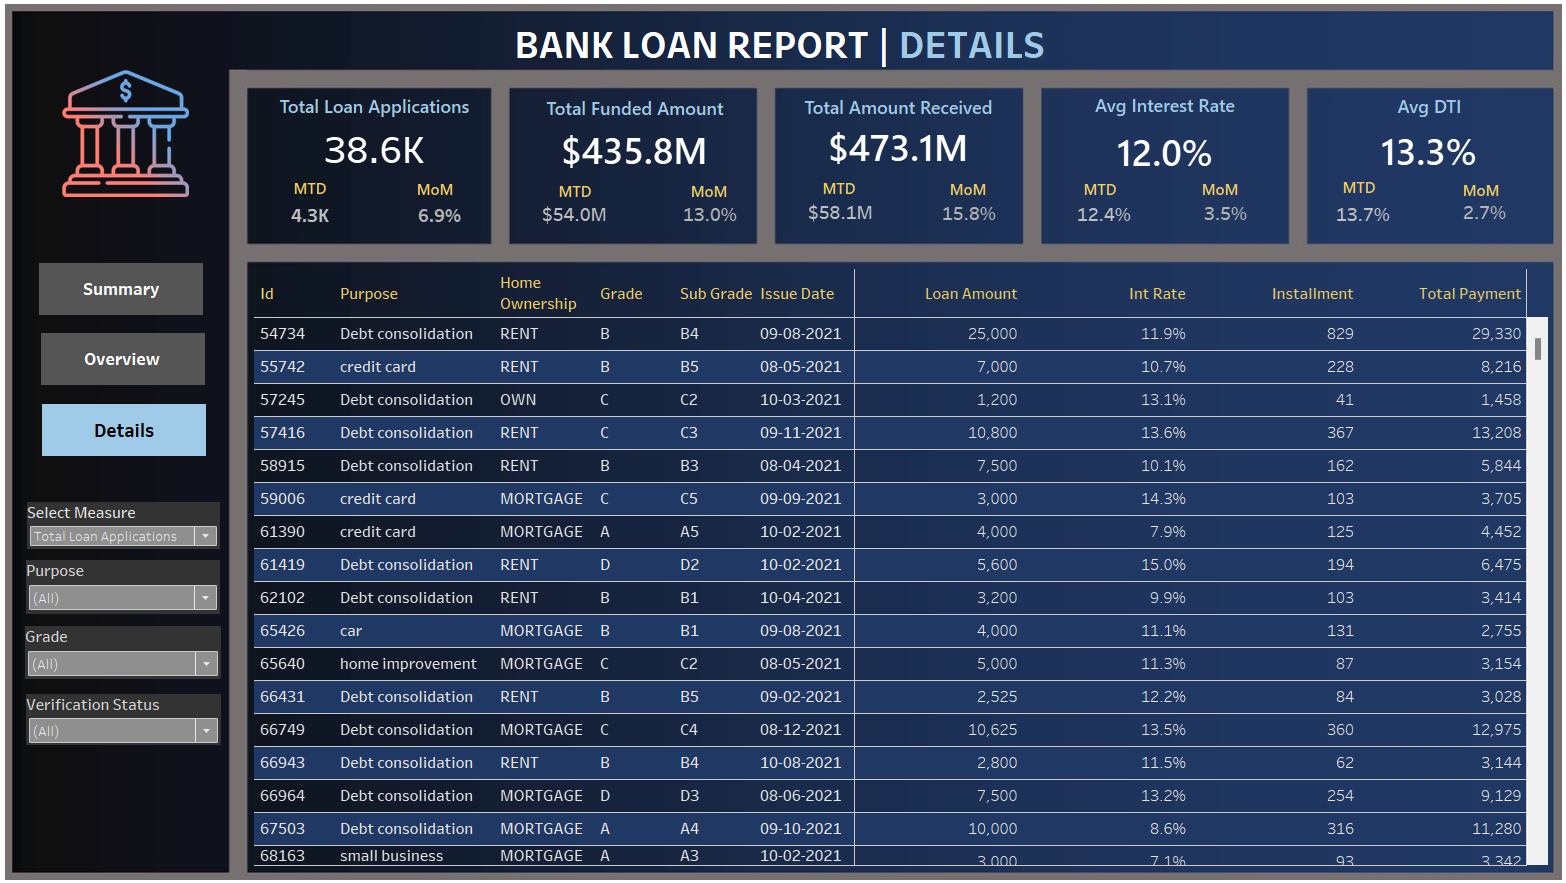

What the dashboard file says about the page in this screenshot:
{"tool":"tableau","page":{"name":"DETAILS","canvas":[1600,900],"ordinal":0},"visuals":[{"type":"image","param":"D:/ProJ_Activity/Portfolio Project/Bank Loan Project/Bank Loan Project/Tableau B","box":[8,8,1584,884]},{"type":"text","box":[527,23,555,56]},{"type":"image","param":"D:/ProJ_Activity/Portfolio Project/Bank Loan Project/Bank Loan Project/12139696.","box":[78,78,135,127]},{"type":"worksheet","title":"Avg Interest Rate","mark":"Automatic","box":[1061,97,240,86]},{"type":"worksheet","title":"Total Loan Applications","mark":"Automatic","box":[278,98,225,79]},{"type":"worksheet","title":"Avg DTI","mark":"Automatic","box":[1325,98,241,83]},{"type":"worksheet","title":"Total Amount Received","mark":"Automatic","box":[795,99,239,73]},{"type":"worksheet","title":"Total Funded Amount","mark":"Automatic","box":[533,100,236,76]},{"type":"text","box":[1333,183,84,23]},{"type":"text","box":[284,184,84,23]},{"type":"text","box":[813,184,84,23]},{"type":"text","box":[409,185,84,23]},{"type":"text","box":[942,185,84,23]},{"type":"text","box":[1074,185,84,23]},{"type":"text","box":[1194,185,84,23]},{"type":"text","box":[1455,186,84,23]},{"type":"text","box":[549,187,84,23]},{"type":"text","box":[683,187,84,23]},{"type":"worksheet","title":"MTD Total Amount Received","mark":"Automatic","box":[815,203,83,34]},{"type":"worksheet","title":"MTD Avg DTI","mark":"Automatic","box":[1342,204,74,36]},{"type":"worksheet","title":"MTD Total Funded Amount","mark":"Automatic","box":[549,205,84,35]},{"type":"worksheet","title":"MoM Total Amount Received","mark":"Automatic","box":[946,205,78,32]},{"type":"worksheet","title":"MoM Avg DTI","mark":"Automatic","box":[1467,205,68,31]},{"type":"worksheet","title":"MoM Avg INT Rate","mark":"Automatic","box":[1207,206,71,30]},{"type":"worksheet","title":"MTD Total Loan Applications","mark":"Automatic","box":[286,207,81,32]},{"type":"worksheet","title":"MoM Loan Applications","mark":"Automatic","box":[420,207,73,33]},{"type":"worksheet","title":"MTD Avg INT Rate","mark":"Automatic","box":[1083,207,75,30]},{"type":"worksheet","title":"MoM Total Funded Amount","mark":"Automatic","box":[688,209,76,27]},{"type":"dashboard-object","box":[55,271,164,52]},{"type":"worksheet","title":"Details Tab","mark":"Automatic","rows":["id","purpose","home_ownership","grade","sub_grade","issue_date"],"box":[270,277,1294,597]},{"type":"dashboard-object","box":[57,341,164,52]},{"type":"dashboard-object","box":[58,412,164,52]},{"type":"parameter","param":"[Parameters].[Parameter 1]","box":[43,510,193,47]},{"type":"filter","title":"Avg DTI","param":"[federated.1j144lr13v6qkz1451sw916ulhen].[none:purpose:nk]","box":[42,568,194,54]},{"type":"filter","title":"Avg DTI","param":"[federated.1j144lr13v6qkz1451sw916ulhen].[none:grade:nk]","box":[41,634,196,53]},{"type":"filter","title":"Avg DTI","param":"[federated.1j144lr13v6qkz1451sw916ulhen].[none:verification_status:nk]","box":[42,702,195,51]}]}

Visuals, with their boxes in screenshot pixels (x1, y1, x2, y2), scaled from the page's 1600x900 canvas onto the 1566x883 screenshot:
image: box(8, 8, 1558, 875)
text: box(516, 23, 1059, 78)
image: box(76, 77, 208, 201)
"Avg Interest Rate" worksheet: box(1038, 95, 1273, 180)
"Total Loan Applications" worksheet: box(272, 96, 492, 174)
"Avg DTI" worksheet: box(1297, 96, 1533, 178)
"Total Amount Received" worksheet: box(778, 97, 1012, 169)
"Total Funded Amount" worksheet: box(522, 98, 753, 173)
text: box(1305, 180, 1387, 202)
text: box(278, 181, 360, 203)
text: box(796, 181, 878, 203)
text: box(400, 182, 483, 204)
text: box(922, 182, 1004, 204)
text: box(1051, 182, 1133, 204)
text: box(1169, 182, 1251, 204)
text: box(1424, 182, 1506, 205)
text: box(537, 183, 620, 206)
text: box(668, 183, 751, 206)
"MTD Total Amount Received" worksheet: box(798, 199, 879, 233)
"MTD Avg DTI" worksheet: box(1313, 200, 1386, 235)
"MTD Total Funded Amount" worksheet: box(537, 201, 620, 235)
"MoM Total Amount Received" worksheet: box(926, 201, 1002, 233)
"MoM Avg DTI" worksheet: box(1436, 201, 1502, 232)
"MoM Avg INT Rate" worksheet: box(1181, 202, 1251, 232)
"MTD Total Loan Applications" worksheet: box(280, 203, 359, 234)
"MoM Loan Applications" worksheet: box(411, 203, 483, 235)
"MTD Avg INT Rate" worksheet: box(1060, 203, 1133, 233)
"MoM Total Funded Amount" worksheet: box(673, 205, 748, 232)
dashboard-object: box(54, 266, 214, 317)
"Details Tab" worksheet: box(264, 272, 1531, 857)
dashboard-object: box(56, 335, 216, 386)
dashboard-object: box(57, 404, 217, 455)
parameter: box(42, 500, 231, 546)
"Avg DTI" filter: box(41, 557, 231, 610)
"Avg DTI" filter: box(40, 622, 232, 674)
"Avg DTI" filter: box(41, 689, 232, 739)
